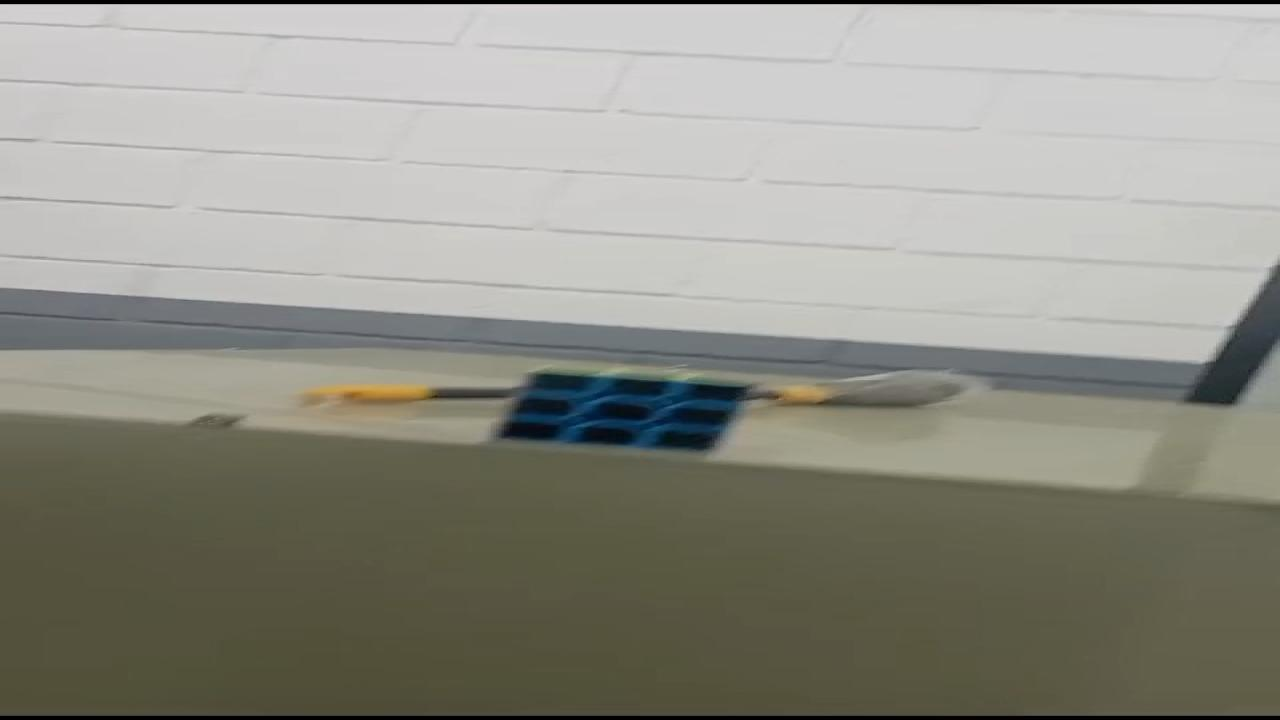Cube: (486, 362, 758, 456)
